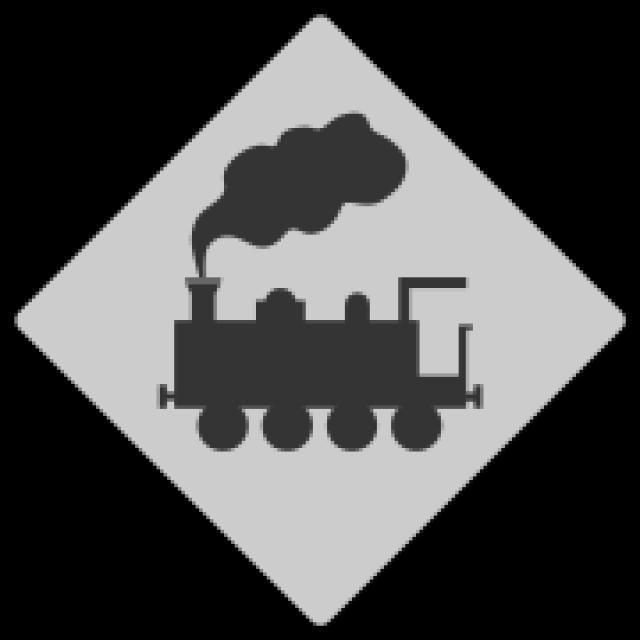unguarded level crossing: (55, 43, 584, 586)
